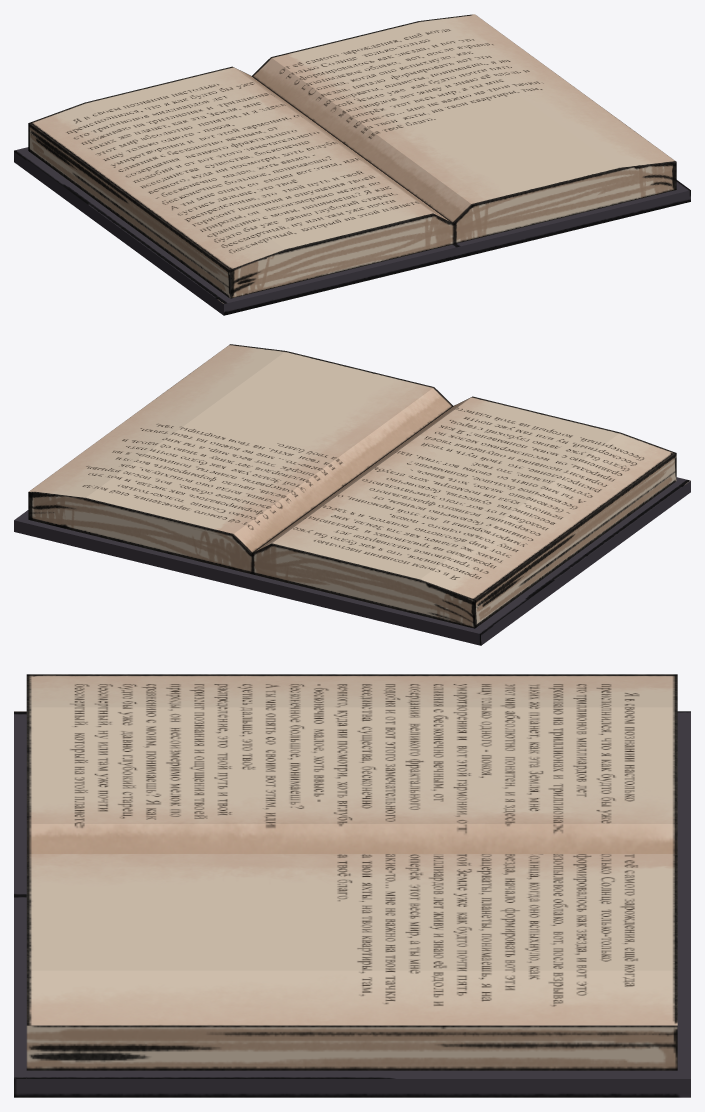
The model's file is book_final.fbx.
3 views of the same model, one above another, from view 1: azimuth 30°, elevation 25°; view 2: azimuth 150°, elevation 25°; view 3: azimuth 270°, elevation 25° (orthographic). The views are drawn at different scales.
Visible parts, largest first — view 1: book. copy; view 2: book. copy; view 3: book. copy.
Part boxes in pixels (x1,y1,x2,y2): book. copy: (14,14,690,315); book. copy: (14,344,690,645); book. copy: (14,674,690,1097).
Bounding box in the file's own units: 0.7701 × 0.073 × 0.5993.
1 material, 1 textured.
